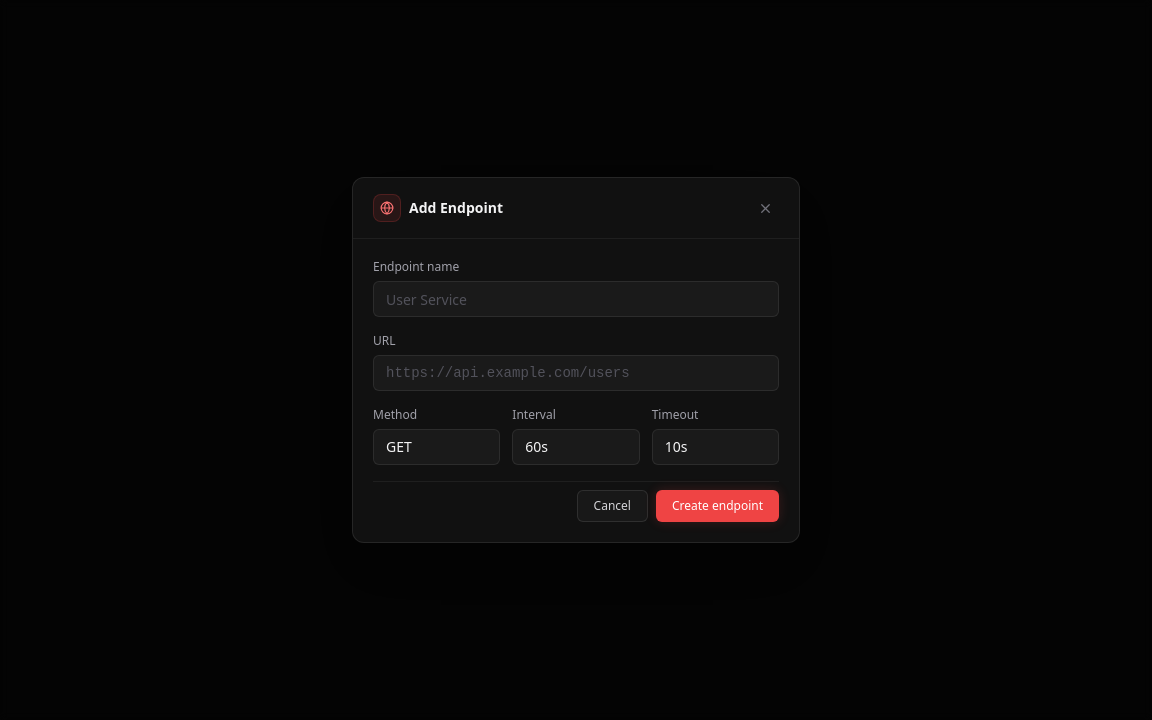
Test case: CreateEndpointModal › should show validation error when submitting empty form
Note: click submit without filling fields
Step 1. Click the button "Create endpoint" → [717, 506], box [656, 490, 779, 522]
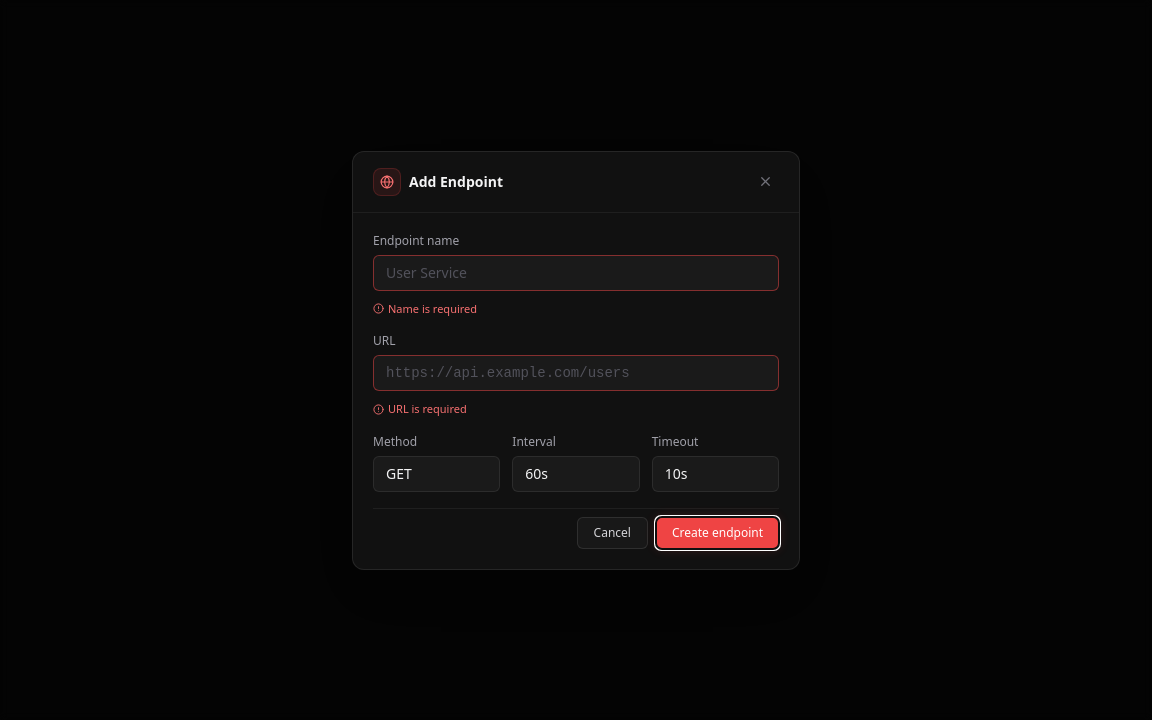
Expected: the text "Name is required" is shown, [373, 300, 477, 316]
Expected: the text "URL is required" is shown, [373, 401, 467, 416]
